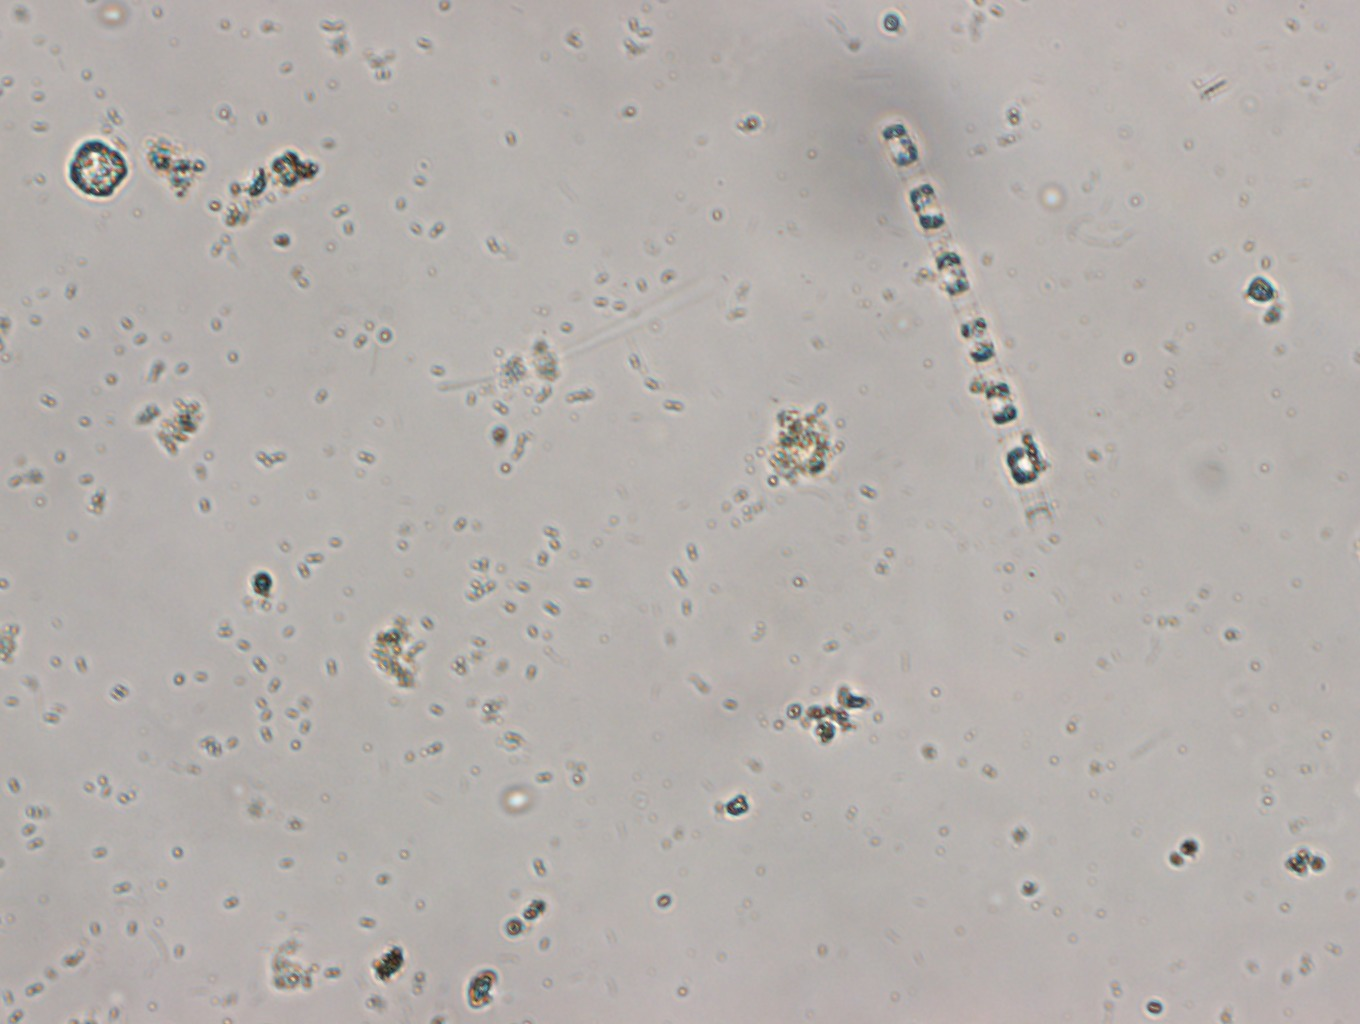skeletonema: (881, 116, 1057, 530)
